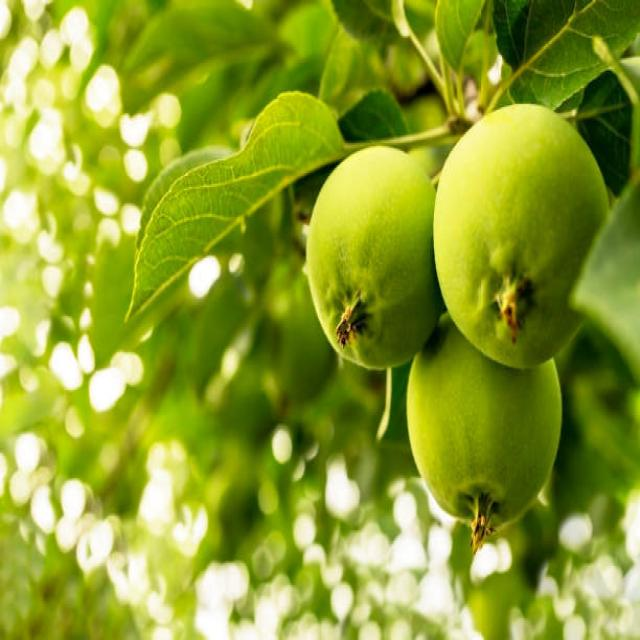Unripe: (432, 104, 610, 365), (305, 144, 448, 370)
